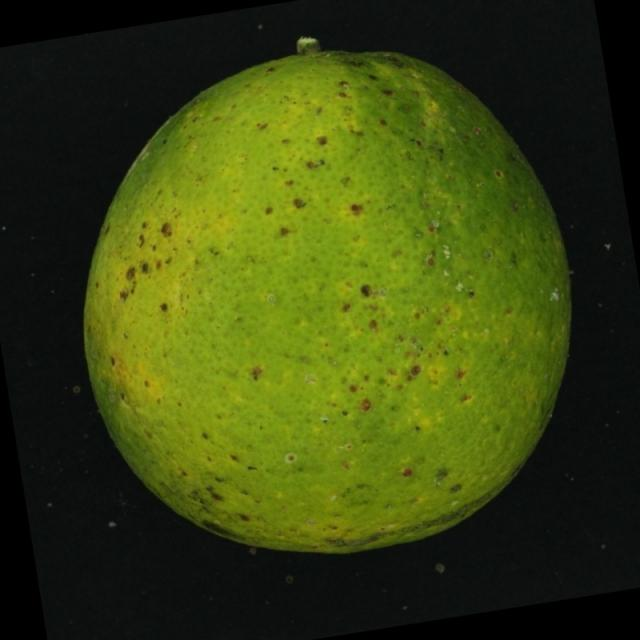grenning: (62, 24, 586, 579)
